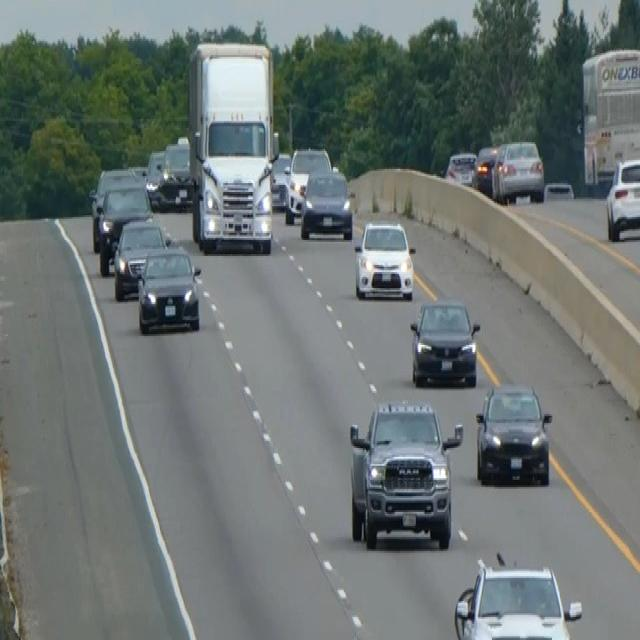car: (453, 550, 582, 638), (474, 379, 553, 487), (409, 297, 480, 387), (136, 244, 202, 334), (96, 180, 153, 274), (353, 217, 415, 300), (112, 217, 170, 300), (299, 167, 353, 240), (284, 144, 331, 224), (493, 137, 545, 203), (153, 135, 193, 210), (605, 154, 639, 242), (473, 142, 501, 196), (270, 149, 291, 208), (144, 148, 165, 206), (444, 149, 476, 187)
jeep: (347, 397, 463, 551)
lorry: (187, 39, 278, 254)
